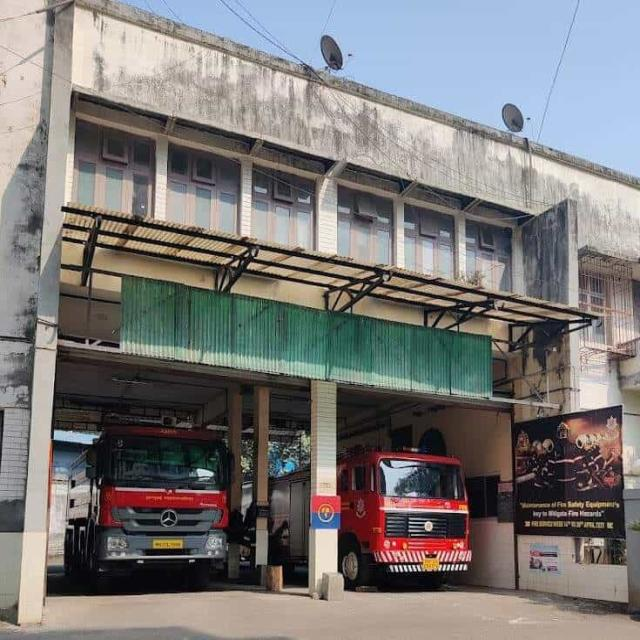emergency: (65, 427, 229, 583), (339, 450, 471, 586)
